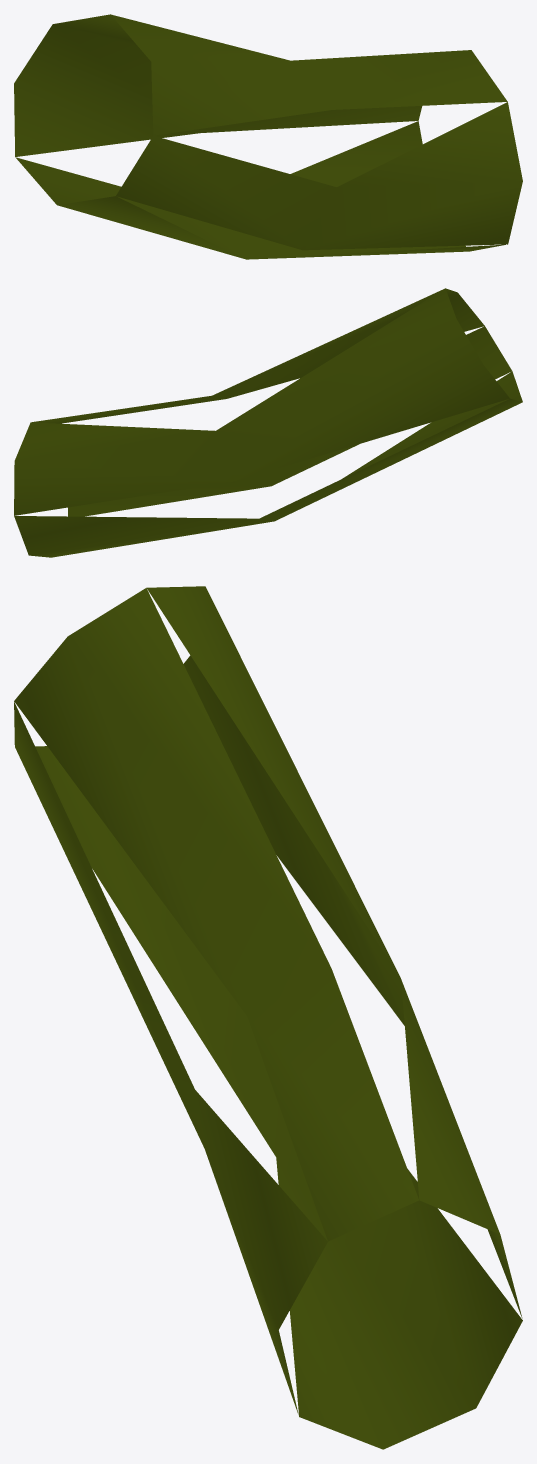
Rendered from planta-002.gltf.
The picture shows the model from 3 angles, top to bottom: view 1: azimuth 30°, elevation 25°; view 2: azimuth 150°, elevation 25°; view 3: azimuth 270°, elevation 25°; orthographic projection. The views are drawn at different scales.
Parts seen in each view (by area): view 1: Anim_Planta-f.002; view 2: Anim_Planta-f.002; view 3: Anim_Planta-f.002.
Boxes of the visible parts, bbox=[...] form: Anim_Planta-f.002: bbox=[14, 14, 522, 259]; Anim_Planta-f.002: bbox=[14, 288, 522, 557]; Anim_Planta-f.002: bbox=[14, 586, 522, 1449].
Bounding box in the file's own units: 2.19 × 1.54 × 1.26.
Materials: 1 (1 with a texture image).
